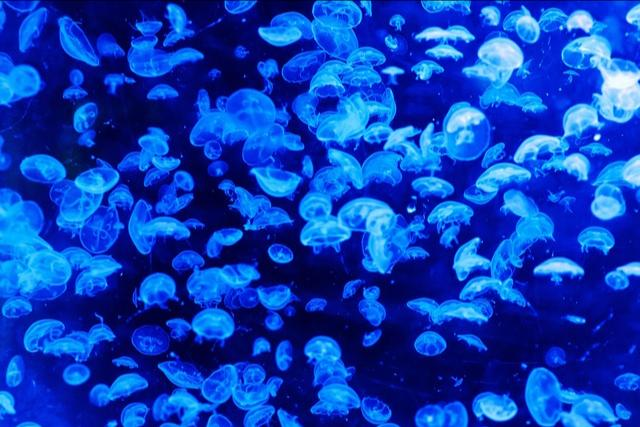Non_Gorille: (99, 20, 593, 392)
